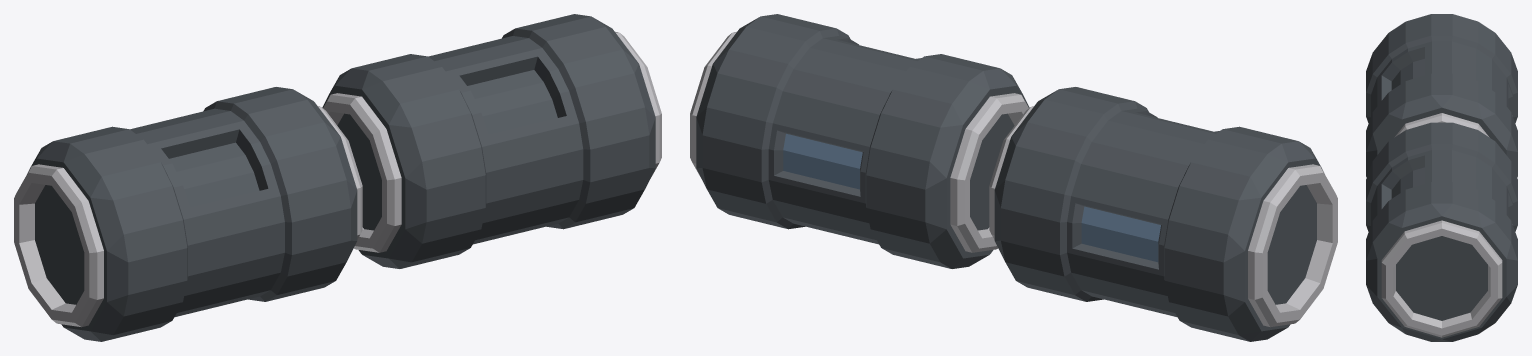
The model's file is Dropship_01_Tank.fbx.
The picture shows the model from 3 angles, left to right: view 1: azimuth 30°, elevation 25°; view 2: azimuth 150°, elevation 25°; view 3: azimuth 270°, elevation 25°; orthographic projection. The views are drawn at different scales.
Parts seen in each view (by area): view 1: Dropship_01_Tank; view 2: Dropship_01_Tank; view 3: Dropship_01_Tank.
Boxes of the visible parts, box(x1,y1,x2,y2) form: Dropship_01_Tank: box(14, 14, 661, 341); Dropship_01_Tank: box(690, 14, 1337, 341); Dropship_01_Tank: box(1366, 14, 1517, 341).
Size of the model in its own units: 867 by 268 by 267.
Materials: 2 (2 with a texture image).
